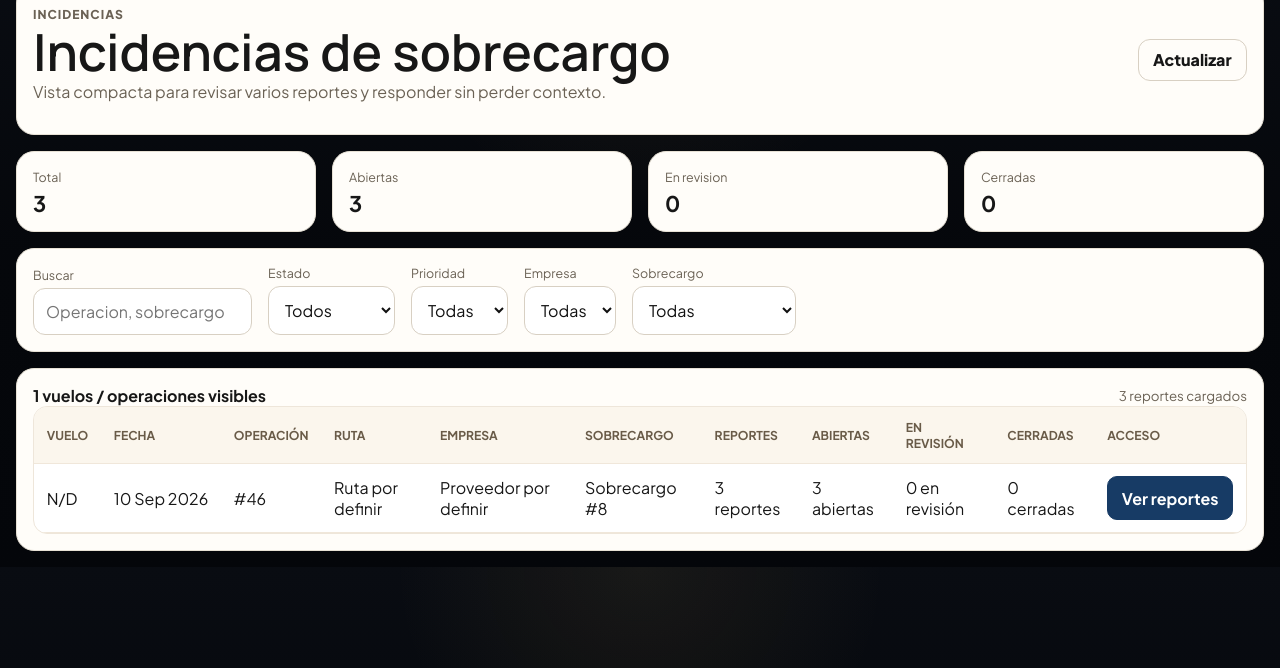
it: keeps the list free of detail and links every report to both views
This screenshot has width=1280, height=668.
Check: the table shows "3 reportes", box [715,477,780,519]
Check: the table shows "10 Sep 2026", box [114,488,208,509]
Click the link with class "group-access". click: (1170, 498)
box: [1107,476,1233,520]
(page scrolled)
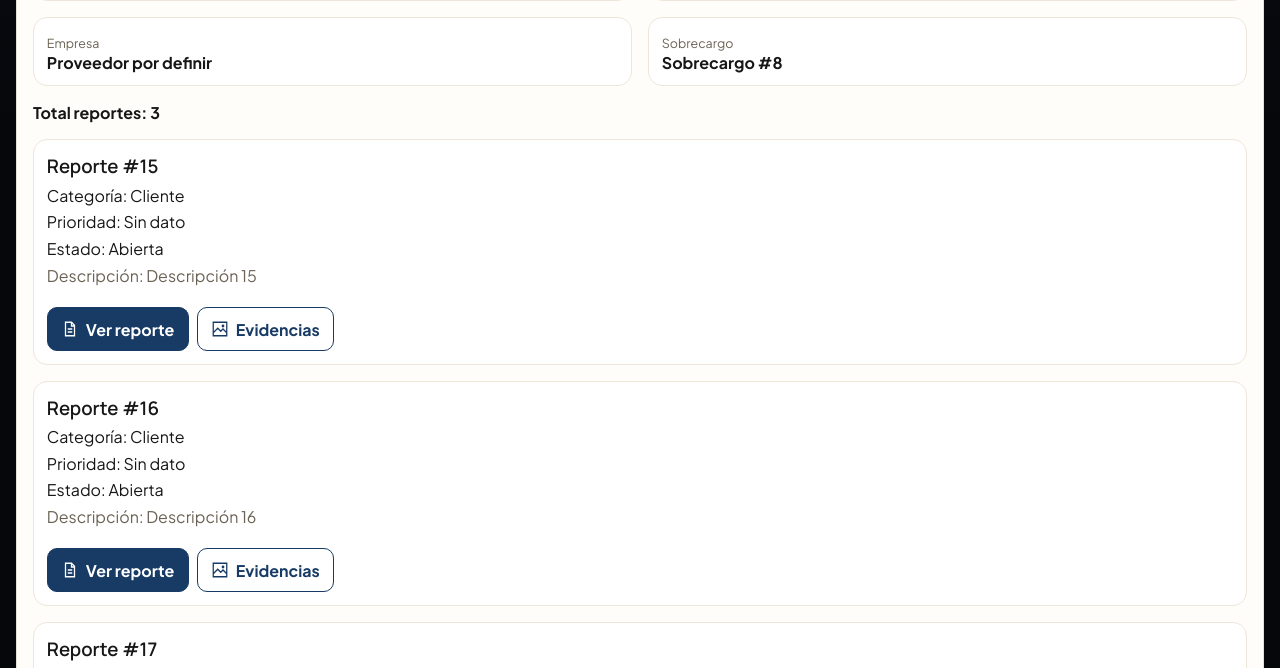
Check: the text "Total reportes: 3" is shown, box [33,102,160,123]
Click the link with class "evidence-access" below "Descripción: Descripción 15". click: (266, 329)
box: [197,307,334,351]
(page scrolled)
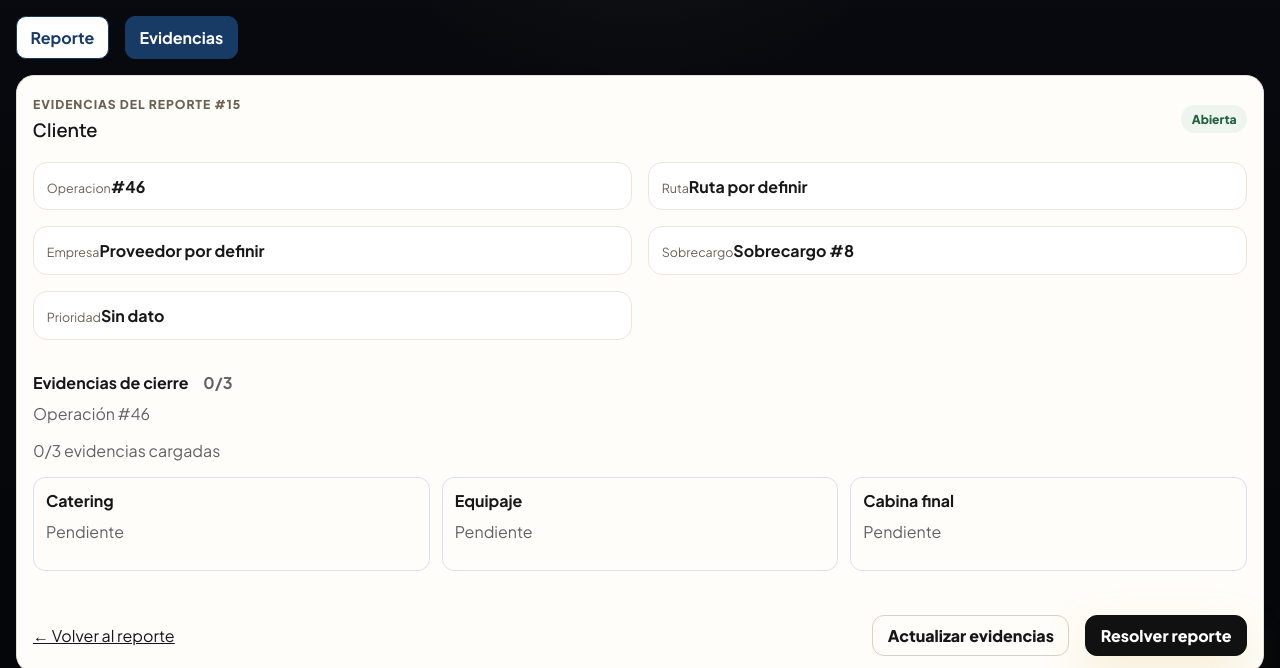
Check: the text "Evidencias del reporte #15" is shown, box [33,96,241,112]
Click the link "← Volver al reporte". click: (104, 635)
box: [33,625,175,646]
(page scrolled)
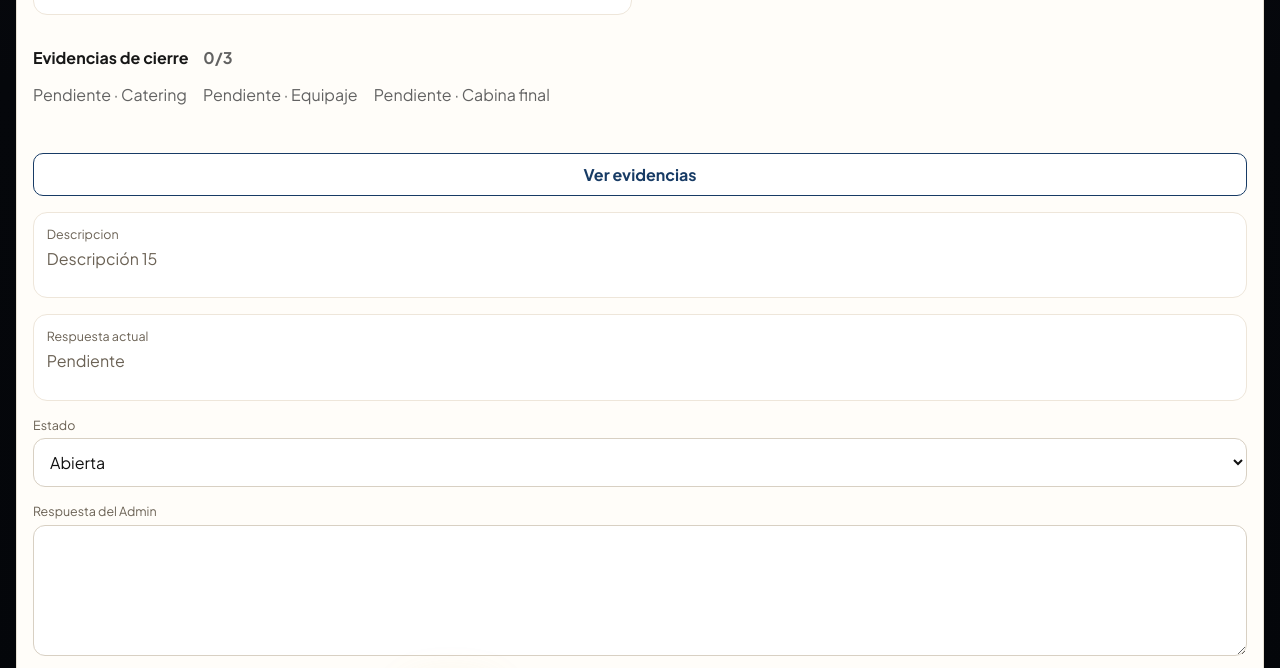
Check: the text box labelled "Respuesta del Admin" is shown, box [33,525,1247,656]
